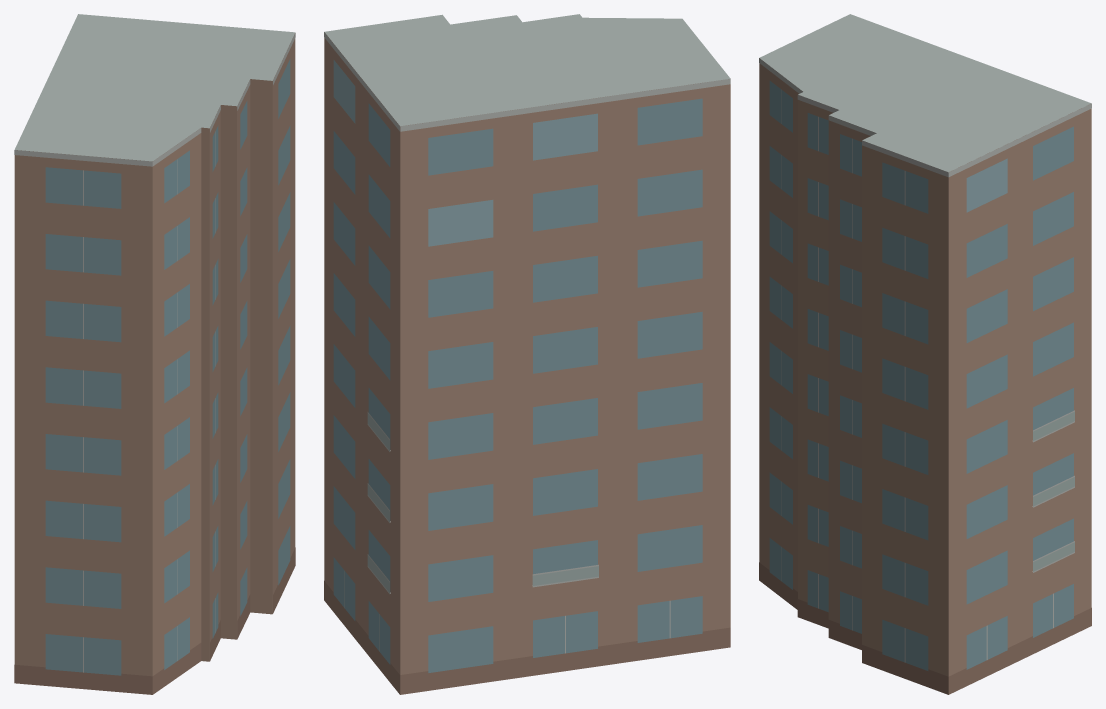
File: survey-upis-32561317.glb
The picture shows the model from 3 angles, left to right: view 1: azimuth 30°, elevation 25°; view 2: azimuth 150°, elevation 25°; view 3: azimuth 270°, elevation 25°; orthographic projection. The views are drawn at different scales.
Parts seen in each view (by area): view 1: survey-upis-32561317.tmp; view 2: survey-upis-32561317.tmp; view 3: survey-upis-32561317.tmp.
Part boxes in pixels (x1,y1,x2,y2): survey-upis-32561317.tmp: [14, 14, 295, 694]; survey-upis-32561317.tmp: [324, 14, 730, 694]; survey-upis-32561317.tmp: [759, 14, 1091, 694].
Bounding box in the file's own units: 16.32 × 25.1 × 14.48.
